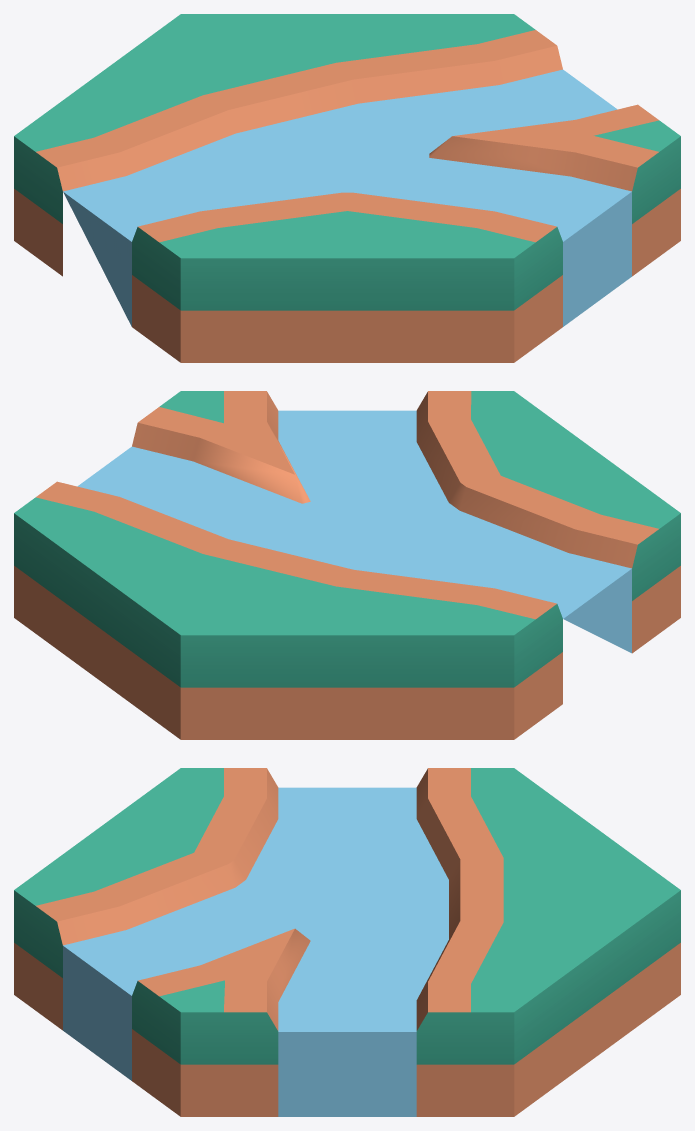
File: kenney-hexagon-river-intersectionc.glb
3 views of the same model, one above another, from view 1: azimuth 30°, elevation 25°; view 2: azimuth 150°, elevation 25°; view 3: azimuth 270°, elevation 25° (orthographic).
Parts seen in each view (by area): view 1: river_intersectionC; view 2: river_intersectionC; view 3: river_intersectionC.
Part boxes in pixels (x1,y1,x2,y2): river_intersectionC: [14, 14, 680, 362]; river_intersectionC: [14, 391, 680, 739]; river_intersectionC: [14, 768, 680, 1116].
Bounding box in the file's own units: 1 × 0.2 × 1.15.
Materials: 1 (1 with a texture image).
